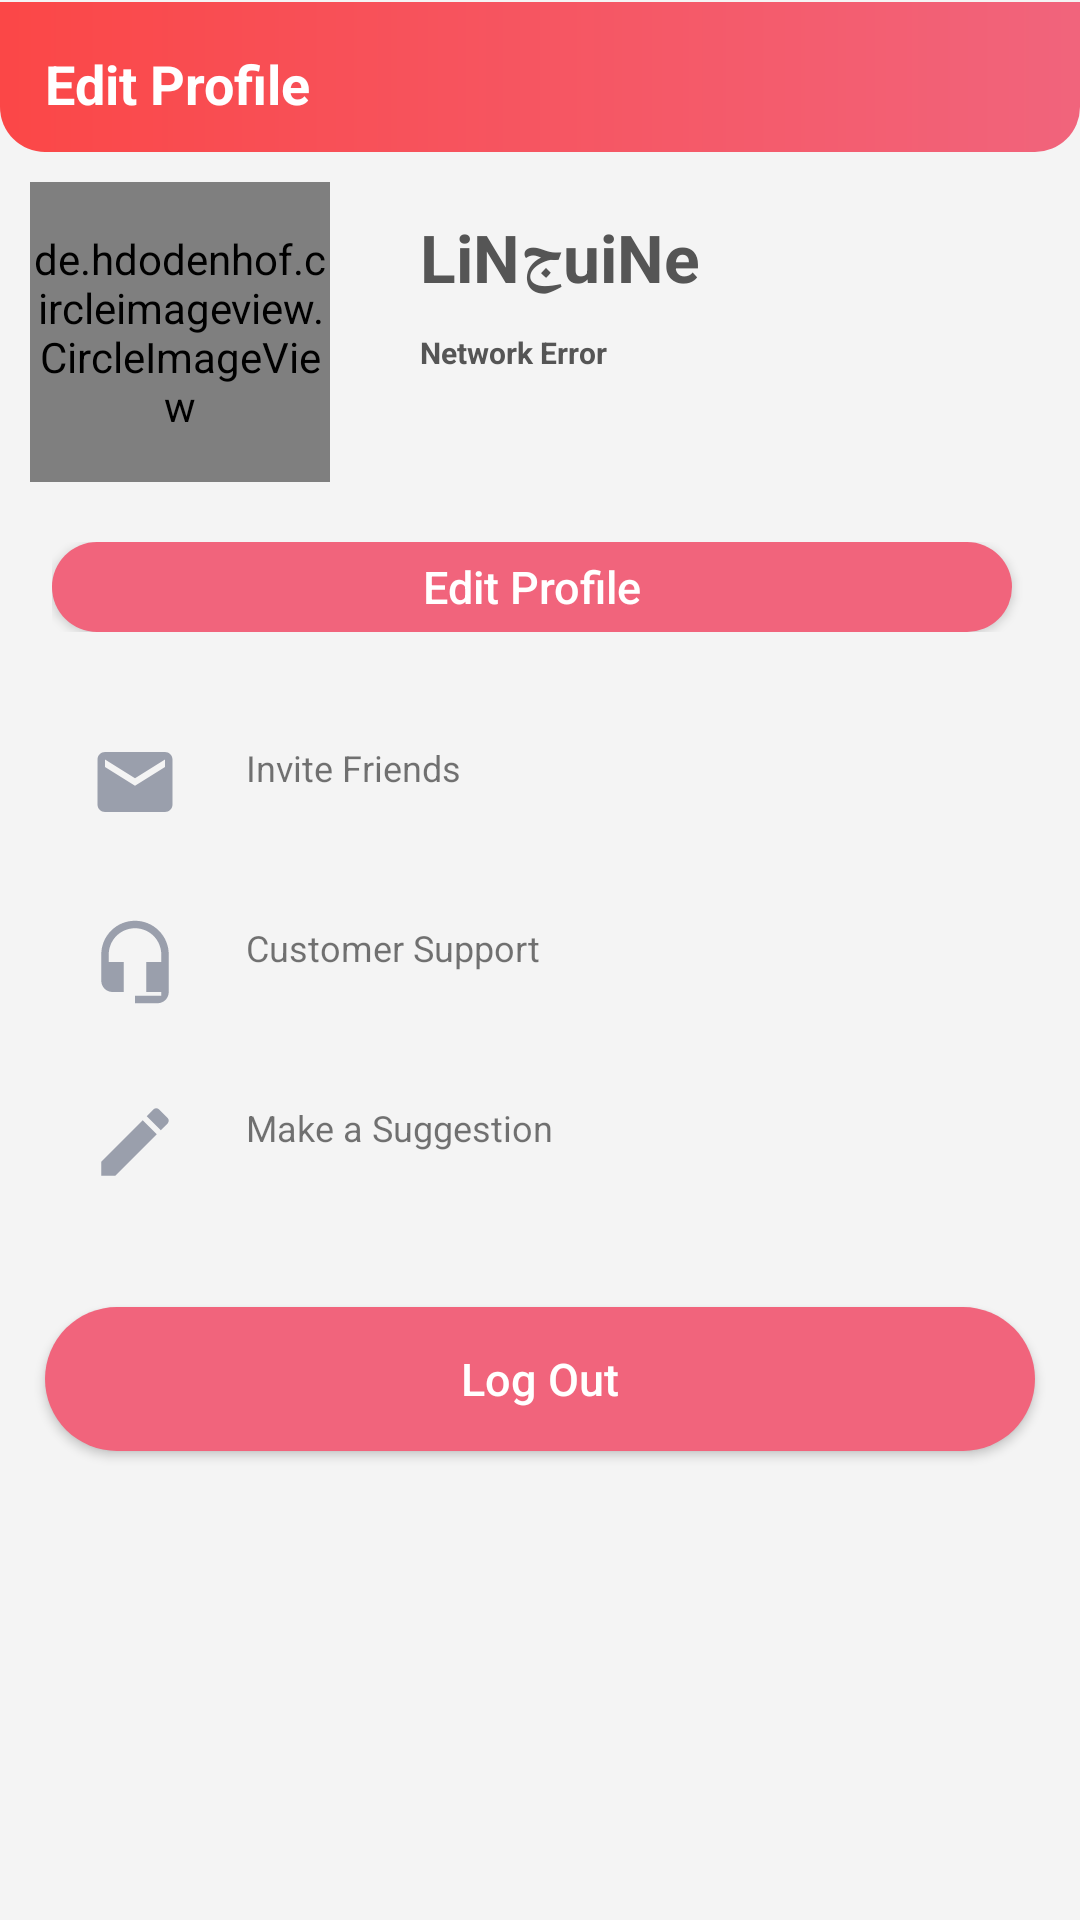

Icon click points for this 1080x1920 phone screenshot, format (x=x, y=y):
suggestions: (x=135, y=1142)
